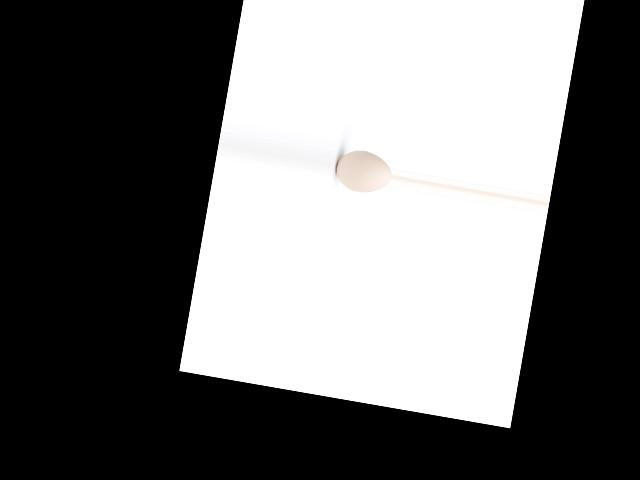egg: (332, 147, 394, 196)
